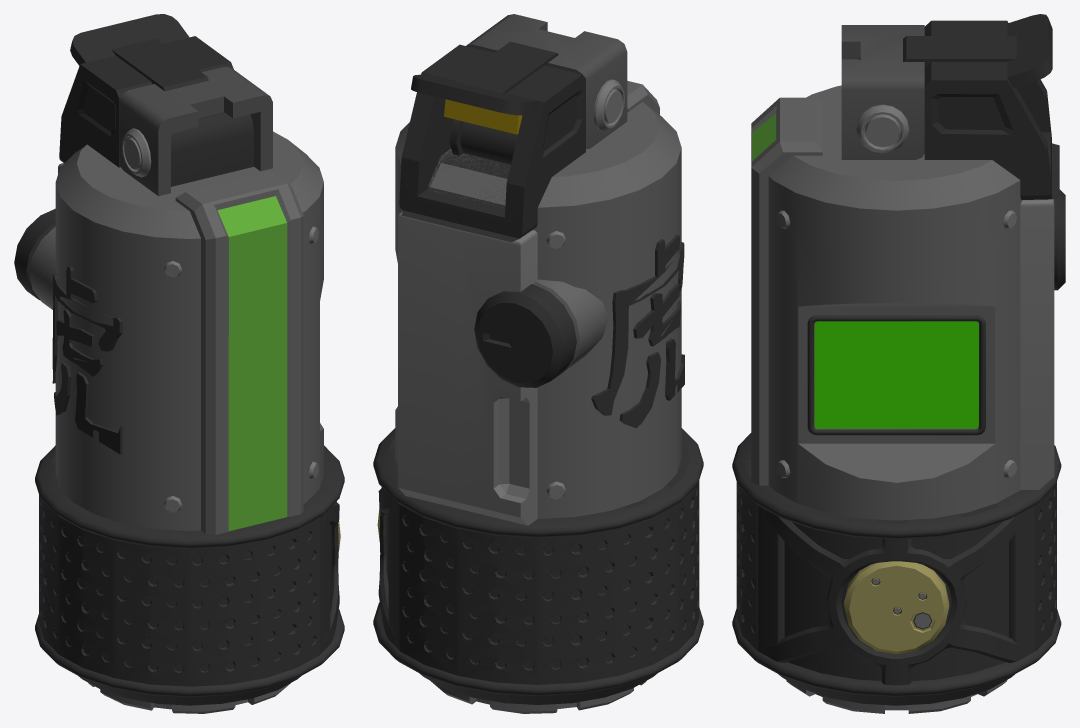
File: HW_XYZSCHOOL_DETALIZACIYA_3.fbx
3 renders of one model, left to right at view 1: azimuth 30°, elevation 25°; view 2: azimuth 150°, elevation 25°; view 3: azimuth 270°, elevation 25°, orthographic. The views are drawn at different scales.
Parts seen in each view (by area): view 1: wTube, wTube.002, Куб.001, Куб.006, Куб, wTube.005, Vert, Куб.008, wTube.003, QBlock.003, wTube.001, Куб.004 (+5 smaller); view 2: wTube.002, wTube, Куб.011, Куб, wTube.001, wTube.005, Vert, Куб.006, wTube.003, Куб.004, QBlock.003, wTube.008 (+7 smaller); view 3: wTube, wTube.002, wTube.011, Куб, Окружность, Куб.011, Куб.001, Куб.006, wTube.004, wTube.005, QBlock, wTube.003 (+7 smaller).
Part boxes in pixels (<box>): wTube: <box>55,131,323,530</box>; wTube.002: <box>39,457,332,705</box>; Куб.001: <box>175,171,303,534</box>; Куб.006: <box>119,66,272,196</box>; Куб: <box>59,36,233,167</box>; wTube.005: <box>35,445,344,548</box>; Vert: <box>52,266,122,454</box>; Куб.008: <box>171,112,253,186</box>; wTube.003: <box>35,609,344,697</box>; QBlock.003: <box>70,14,189,65</box>; wTube.001: <box>14,208,55,309</box>; Куб.004: <box>111,38,208,91</box>; wTube.002: <box>386,439,699,704</box>; wTube: <box>395,102,681,518</box>; Куб.011: <box>398,211,537,525</box>; Куб: <box>399,44,585,242</box>; wTube.001: <box>474,279,608,387</box>; wTube.005: <box>373,428,703,537</box>; Vert: <box>591,234,684,428</box>; Куб.006: <box>466,14,627,148</box>; wTube.003: <box>373,602,703,695</box>; Куб.004: <box>455,41,558,93</box>; QBlock.003: <box>411,74,538,115</box>; wTube.008: <box>460,121,517,164</box>; wTube: <box>768,85,1022,520</box>; wTube.002: <box>736,460,1056,705</box>; wTube.011: <box>814,321,978,428</box>; Куб: <box>924,20,1059,199</box>; Окружность: <box>765,511,1027,685</box>; Куб.011: <box>1020,199,1054,489</box>; Куб.001: <box>751,97,822,485</box>; Куб.006: <box>841,25,924,159</box>; wTube.004: <box>844,561,949,653</box>; wTube.005: <box>732,433,1061,538</box>; QBlock: <box>758,505,1035,656</box>; wTube.003: <box>732,609,1061,696</box>.
Bounding box in the file's own units: 231 × 488 × 234.
